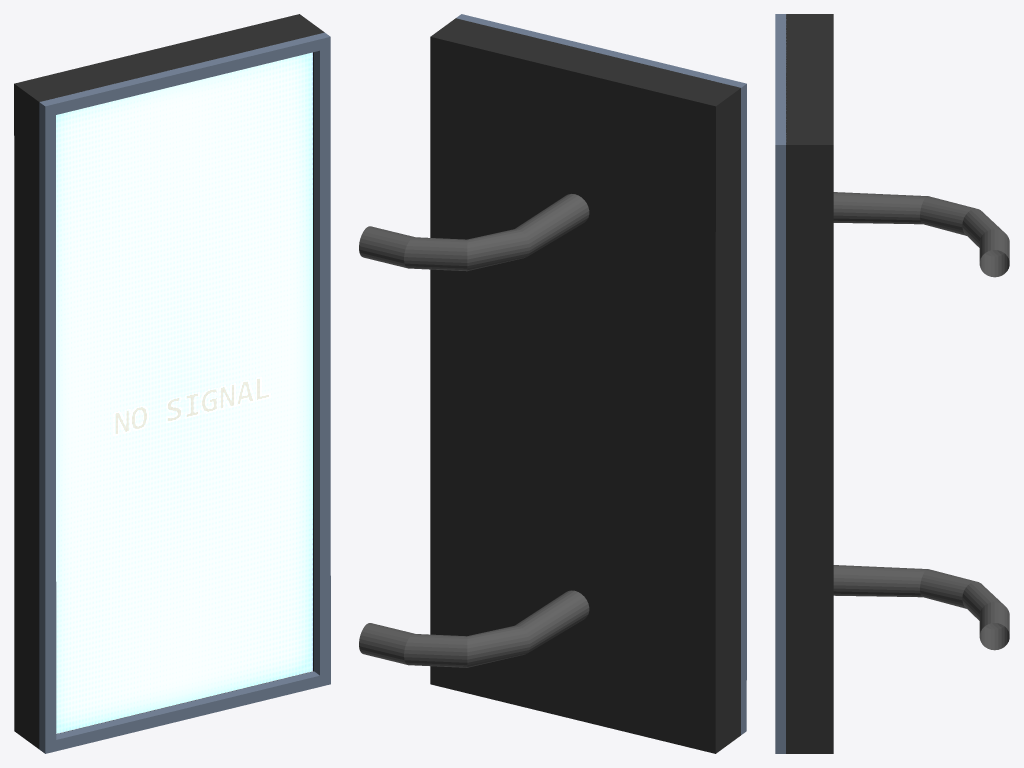
Rendered from backgroun billboard 3.fbx.
The picture shows the model from 3 angles, left to right: view 1: azimuth 30°, elevation 25°; view 2: azimuth 150°, elevation 25°; view 3: azimuth 270°, elevation 25°; orthographic projection. The views are drawn at different scales.
Parts seen in each view (by area): view 1: Elbow Joint.001; view 2: Elbow Joint.001; view 3: Elbow Joint.001.
Boxes of the visible parts, x1,y1,x2,y2 form: Elbow Joint.001: [14, 14, 330, 753]; Elbow Joint.001: [359, 14, 746, 753]; Elbow Joint.001: [775, 14, 1009, 753].
Bounding box in the file's own units: 697 × 1510 × 527.
Materials: 4 (4 with a texture image).
